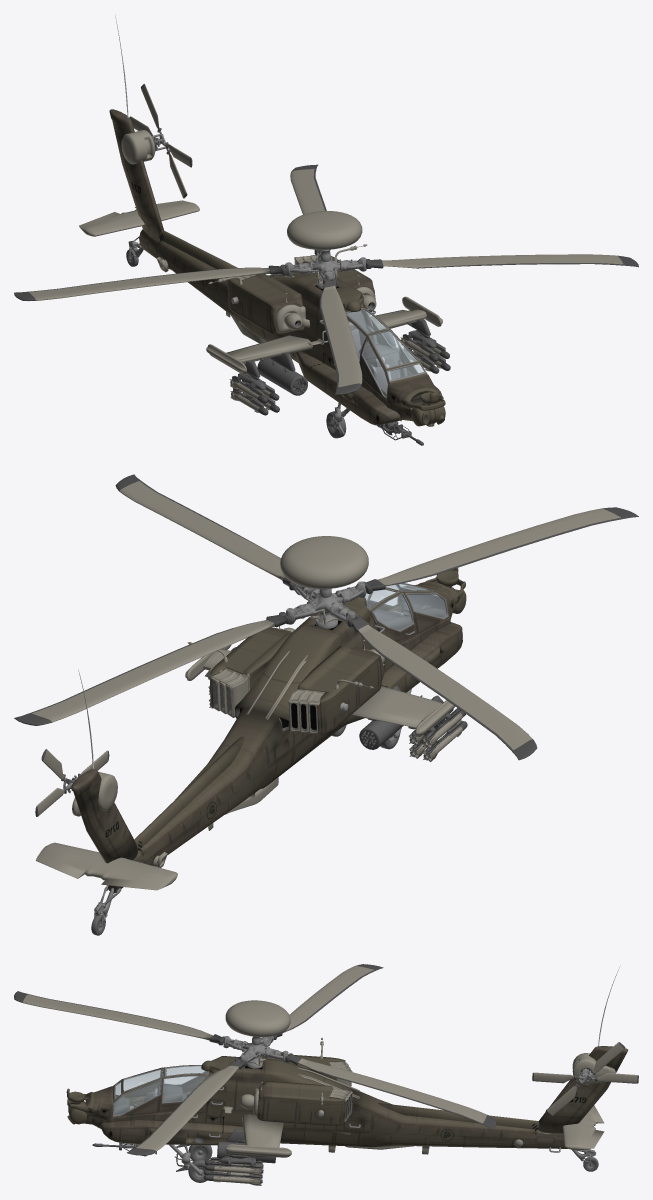
The model's file is Apache(2).fbx.
3 views of the same model, one above another, from view 1: azimuth 30°, elevation 25°; view 2: azimuth 150°, elevation 25°; view 3: azimuth 270°, elevation 25° (orthographic). The views are drawn at different scales.
Parts seen in each view (by area): view 1: Body, FrontRotor, RearTail, TailRotor, RightFrontDoor; view 2: Body, FrontRotor, RearTail, RightRearDoor1, RightFrontDoor, TailRotor; view 3: Body, FrontRotor, TailRotor, LeftFrontDoor, RearTail, LeftRearDoor, RightFrontDoor, RightRearDoor1, LeftGear, Missile8, Missile6, LeftWheel.
Boxes of the visible parts, x1,y1,x2,y2 form: Body: (109, 109, 445, 426); FrontRotor: (14, 164, 638, 394); RearTail: (79, 200, 199, 236); TailRotor: (130, 84, 192, 198); RightFrontDoor: (360, 336, 389, 400); Body: (71, 577, 465, 893); FrontRotor: (14, 474, 638, 760); RearTail: (36, 842, 177, 890); RightRearDoor1: (371, 592, 415, 643); RightFrontDoor: (403, 591, 448, 635); TailRotor: (35, 749, 109, 816); Body: (67, 1037, 628, 1179); FrontRotor: (14, 964, 496, 1155); TailRotor: (532, 1042, 638, 1116); LeftFrontDoor: (112, 1077, 162, 1117); RearTail: (562, 1105, 604, 1149); LeftRearDoor: (160, 1075, 208, 1112); RightFrontDoor: (113, 1067, 162, 1097); RightRearDoor1: (162, 1065, 206, 1092); LeftGear: (169, 1144, 202, 1175); Missile8: (204, 1175, 262, 1185); Missile6: (204, 1164, 263, 1175); LeftWheel: (189, 1145, 212, 1160).
Size of the model in its own units: 1558 by 738 by 2014.
Materials: 13 (3 with a texture image).
